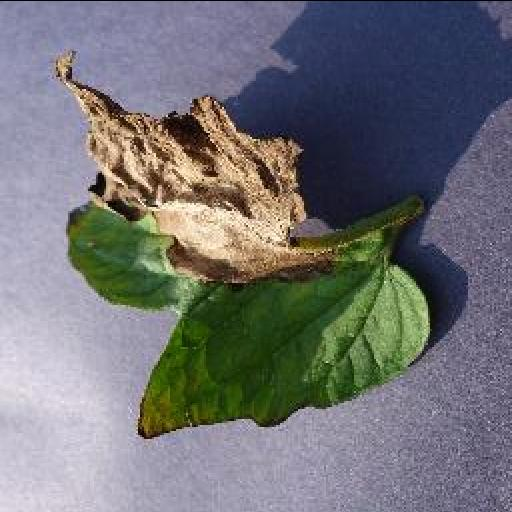disease_tomato: (58, 46, 434, 444)
